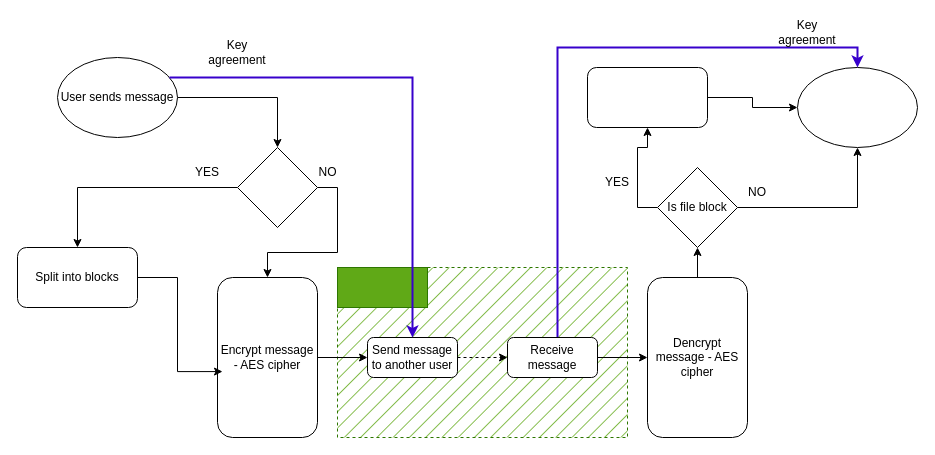
This 935x455 diagram has some shape labels left out. Each missing label, with the centre of its shape:
"Append blocks to file" belongs at (647,97).
"Is file" belongs at (277,187).
"User receives message" belongs at (857,107).
"VPN" belongs at (382,287).
